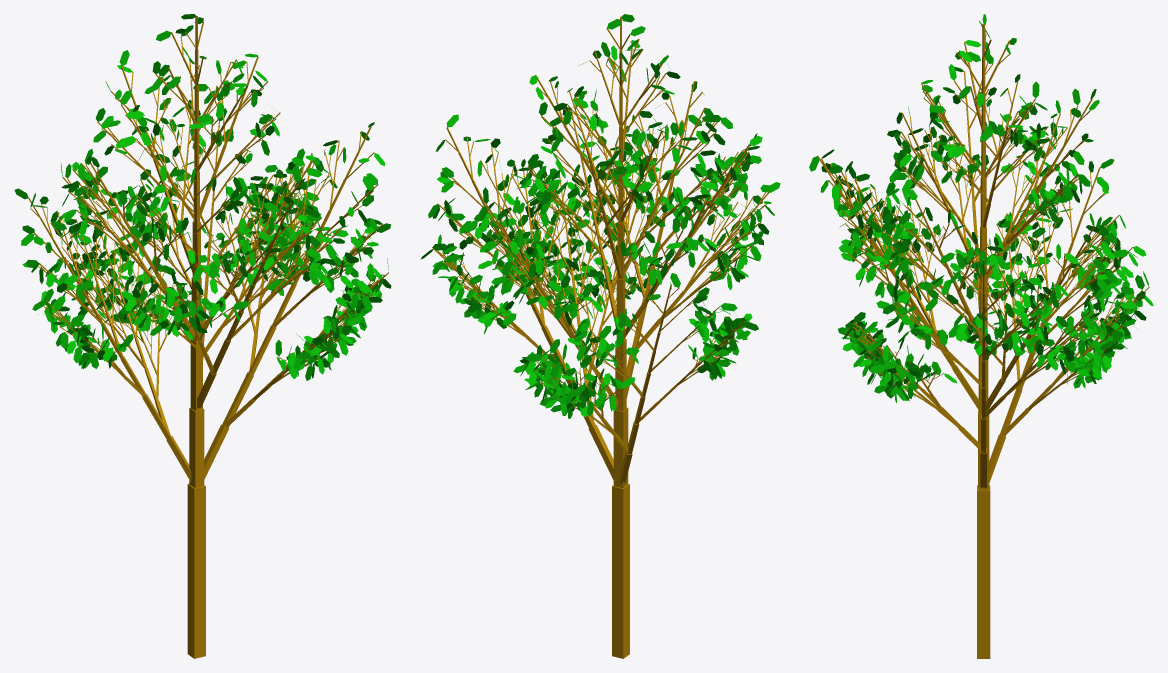
File: tree_01.glb
3 views of the same model, side by side, from view 1: azimuth 30°, elevation 25°; view 2: azimuth 150°, elevation 25°; view 3: azimuth 270°, elevation 25° (orthographic).
Parts seen in each view (by area): view 1: tree01 #1; view 2: tree01 #1; view 3: tree01 #1.
Boxes of the visible parts, x1,y1,x2,y2 form: tree01 #1: [14, 14, 391, 658]; tree01 #1: [420, 14, 780, 658]; tree01 #1: [809, 14, 1153, 658].
Size of the model in its own units: 36.93 by 68.81 by 33.77.
